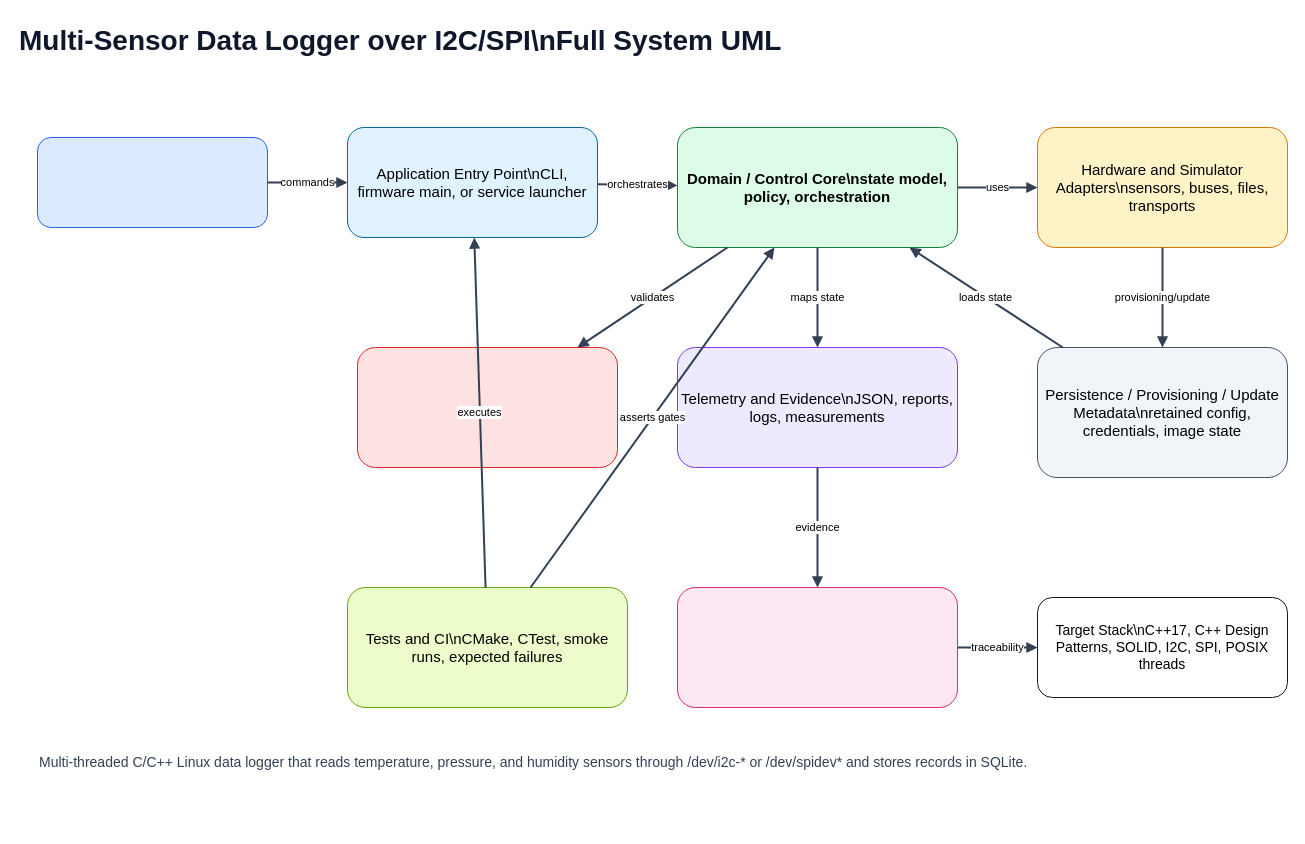
The diagram is 1305 pixels wide and 844 high, and some of its shapes have lost their labels. Here are the shapes that lost their labels. From the top down, the centre of each, then its label:
At (x=152, y=182): "Operator / Cloud / Test Harness".
At (x=487, y=407): "Safety / Readiness Gates\nconfig, battery, timing, OTA, bounds".
At (x=817, y=647): "Documentation Package\nREADME, architecture, validation plan, UML".
